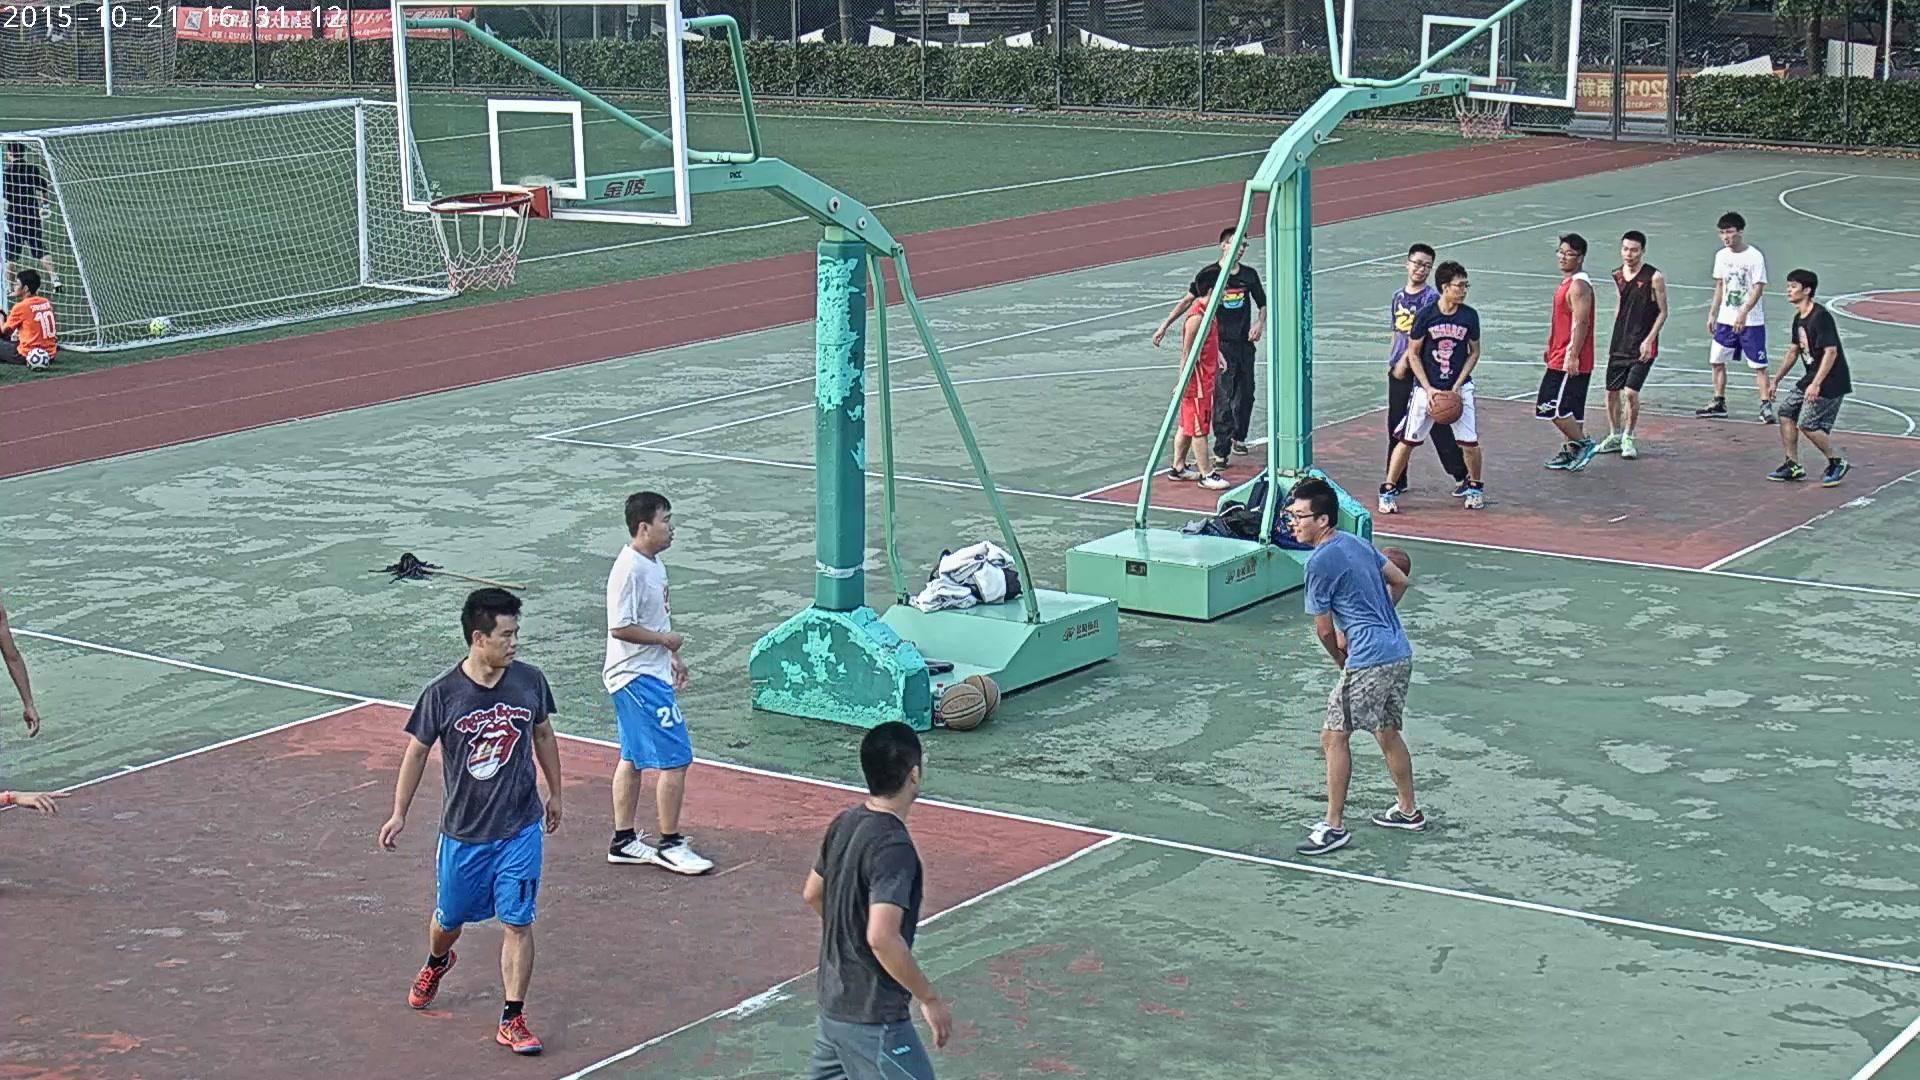face: (481, 614, 517, 667), (1292, 497, 1320, 542), (648, 503, 672, 549), (1409, 251, 1433, 282), (1622, 237, 1642, 265), (1447, 275, 1467, 303), (1226, 234, 1246, 261), (1559, 242, 1579, 269), (1787, 279, 1805, 302), (1720, 227, 1739, 246), (14, 278, 23, 296)
